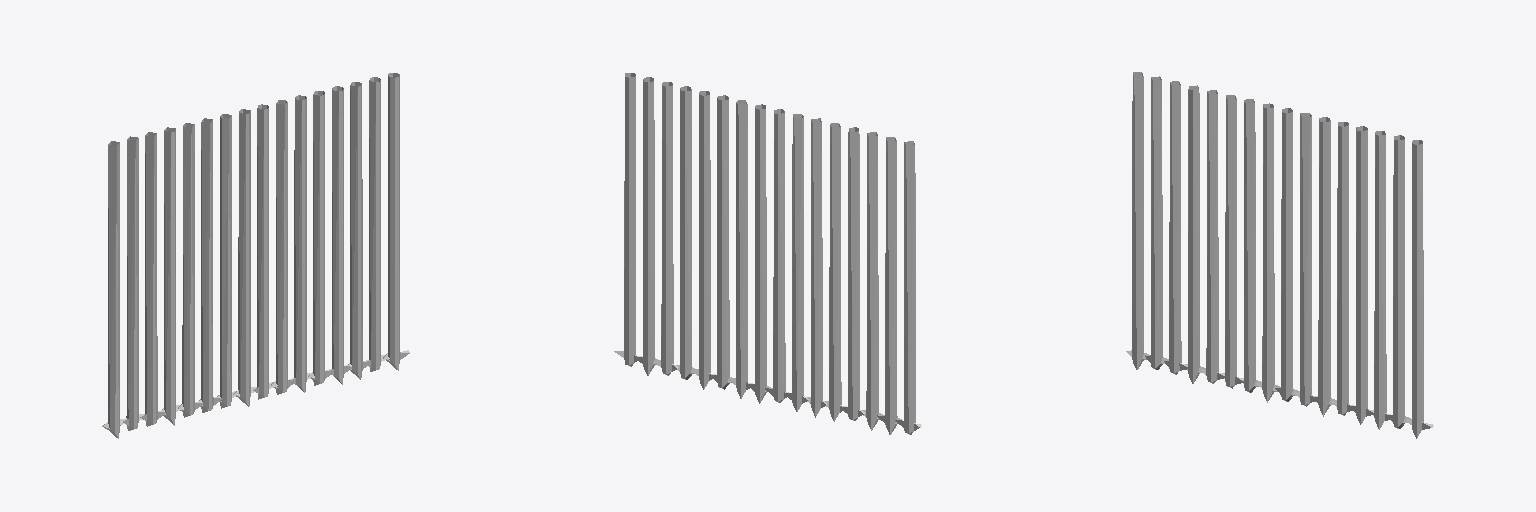
File: InteractiveDoor_MID.obj
The picture shows the model from 3 angles: view 1: azimuth 30°, elevation 25°; view 2: azimuth 150°, elevation 25°; view 3: azimuth 330°, elevation 25°; orthographic projection.
Visible parts, largest first — view 1: Closed_door; view 2: Closed_door; view 3: Closed_door.
Part boxes in pixels (x1,y1,x2,y2): Closed_door: (102, 73, 409, 438); Closed_door: (614, 73, 921, 434); Closed_door: (1126, 72, 1433, 438).
Size of the model in its own units: 3.56 by 3.27 by 0.1331.